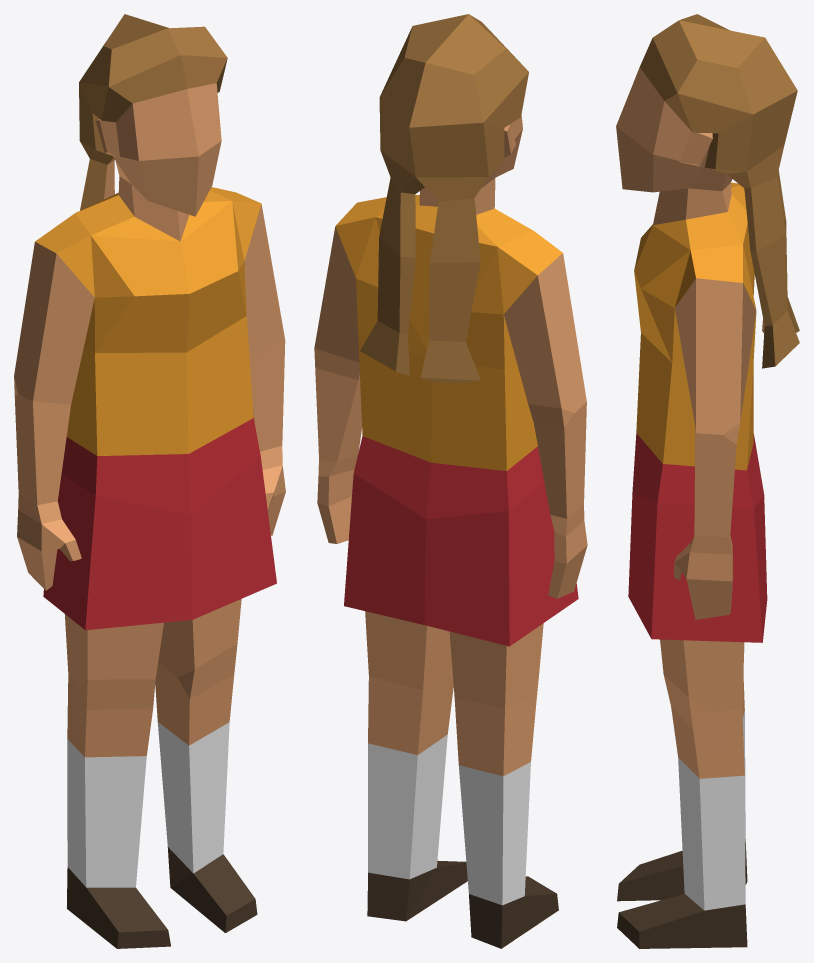
File: girl-skirt.glb
The picture shows the model from 3 angles, left to right: view 1: azimuth 30°, elevation 25°; view 2: azimuth 150°, elevation 25°; view 3: azimuth 270°, elevation 25°; orthographic projection.
Visible parts, largest first — view 1: girl-skirt; view 2: girl-skirt; view 3: girl-skirt.
Part boxes in pixels (left/top/right/bottom): girl-skirt: left=14, top=14, right=285, bottom=948; girl-skirt: left=314, top=14, right=587, bottom=948; girl-skirt: left=616, top=14, right=799, bottom=948.
Bounding box in the file's own units: 0.3303 × 1.1 × 0.2052.
Materials: 1 (1 with a texture image).
